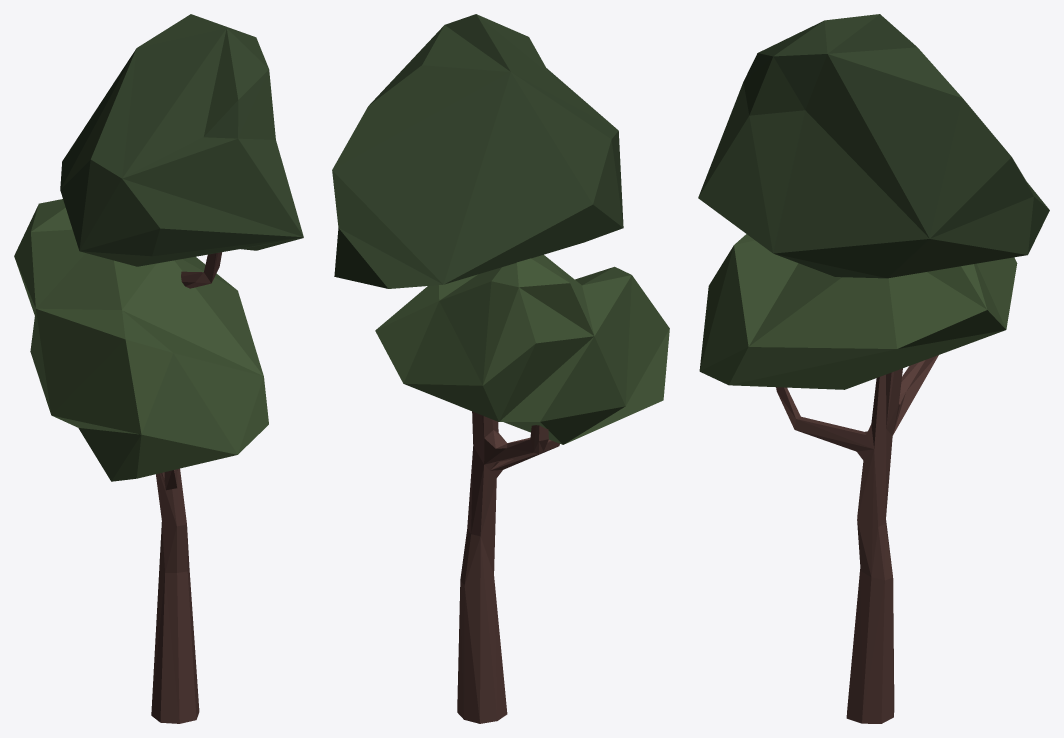
The model's file is CommonTree_3_lod.glb.
3 views of the same model, side by side, from view 1: azimuth 30°, elevation 25°; view 2: azimuth 150°, elevation 25°; view 3: azimuth 270°, elevation 25° (orthographic). The views are drawn at different scales.
Parts seen in each view (by area): view 1: CommonTree_3; view 2: CommonTree_3; view 3: CommonTree_3.
Boxes of the visible parts, box(x1,y1,x2,y2) form: CommonTree_3: box(14, 14, 303, 723); CommonTree_3: box(332, 14, 669, 723); CommonTree_3: box(698, 14, 1049, 723).
Size of the model in its own units: 1.27 by 3.45 by 1.55.
